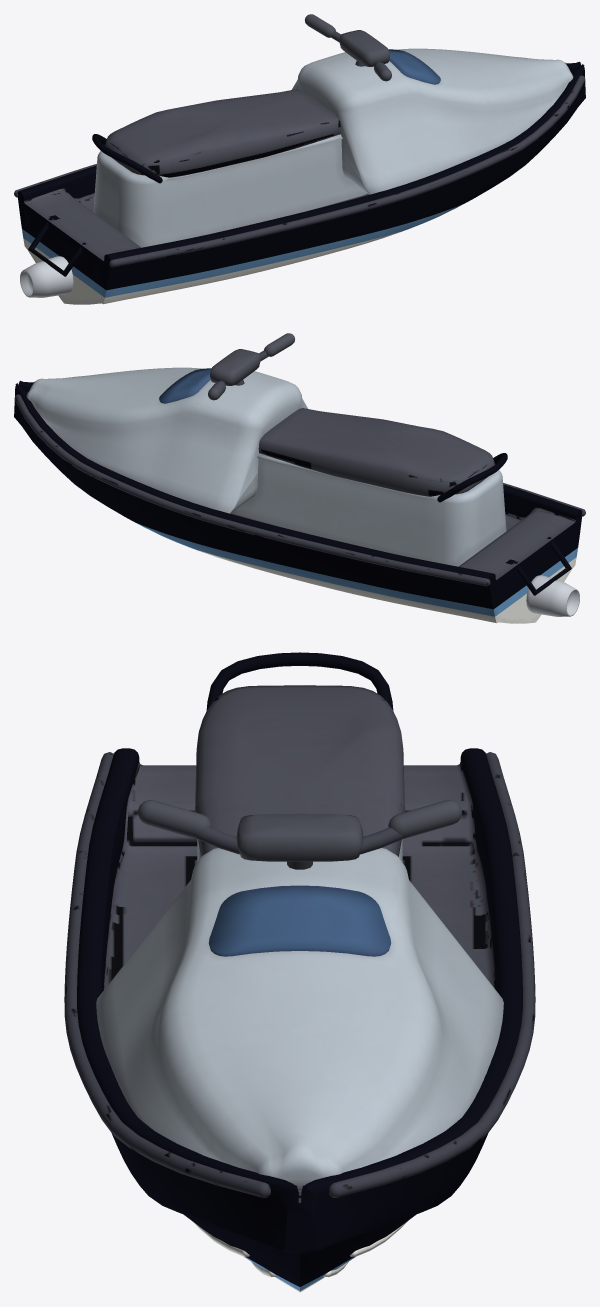
The model's file is sea-doo-gtx-325-limited-2025.glb.
3 renders of one model, top to bottom at view 1: azimuth 30°, elevation 25°; view 2: azimuth 150°, elevation 25°; view 3: azimuth 270°, elevation 25°, orthographic. The views are drawn at different scales.
Parts seen in each view (by area): view 1: jet-ski_body, jet-ski_handlebar, jet-ski_jet_nozzle; view 2: jet-ski_body, jet-ski_handlebar, jet-ski_jet_nozzle; view 3: jet-ski_body, jet-ski_handlebar.
Part boxes in pixels (<box>): jet-ski_body: <box>14,48,585,304</box>; jet-ski_handlebar: <box>305,14,391,81</box>; jet-ski_jet_nozzle: <box>20,256,73,297</box>; jet-ski_body: <box>14,367,585,623</box>; jet-ski_handlebar: <box>208,333,294,400</box>; jet-ski_jet_nozzle: <box>526,575,579,616</box>; jet-ski_body: <box>64,652,535,1292</box>; jet-ski_handlebar: <box>138,800,461,869</box>.
Bounding box in the file's own units: 3.58 × 1.21 × 1.32.
Materials: 4 (1 with a texture image).
